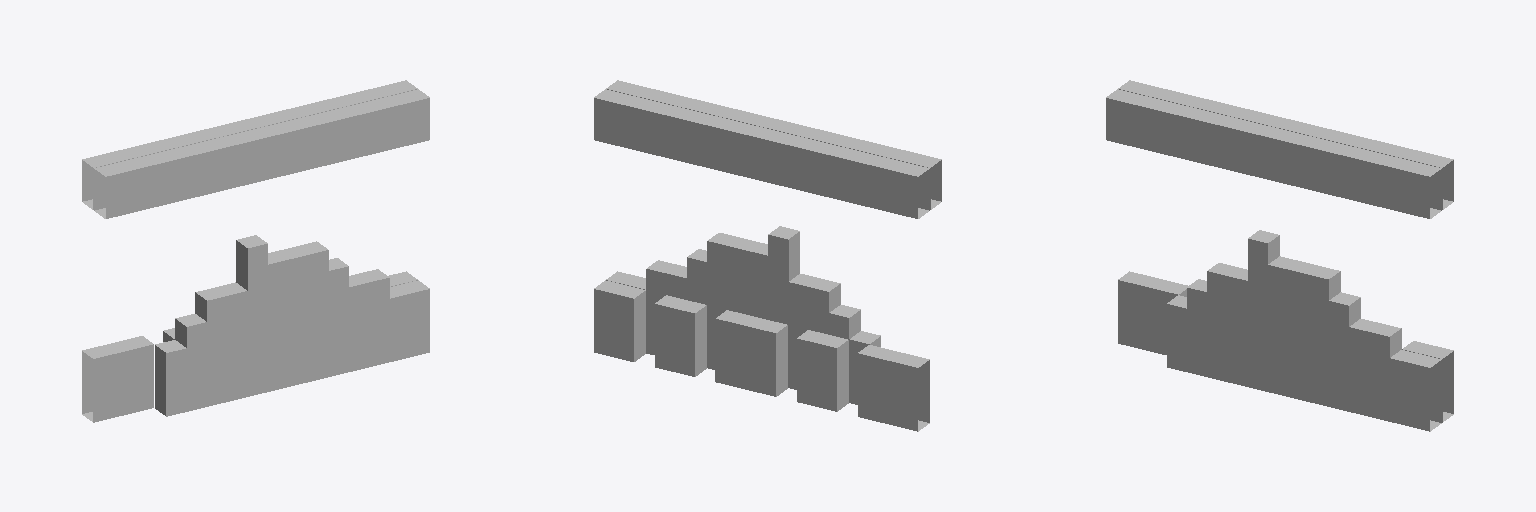
File: Colby7NoMat.obj
3 renders of one model, left to right at view 1: azimuth 30°, elevation 25°; view 2: azimuth 150°, elevation 25°; view 3: azimuth 330°, elevation 25°, orthographic.
Visible parts, largest first — view 1: Plane, Plane.001_Plane.002; view 2: Plane.001_Plane.002, Plane; view 3: Plane, Plane.001_Plane.002.
Part boxes in pixels (left/top/right/bottom): Plane: left=94, top=89, right=429, bottom=416; Plane.001_Plane.002: left=82, top=80, right=417, bottom=422; Plane.001_Plane.002: left=594, top=89, right=929, bottom=431; Plane: left=606, top=80, right=941, bottom=404; Plane: left=1106, top=89, right=1441, bottom=431; Plane.001_Plane.002: left=1118, top=80, right=1453, bottom=422.
Bounding box in the file's own units: 16 × 12 × 2.04.